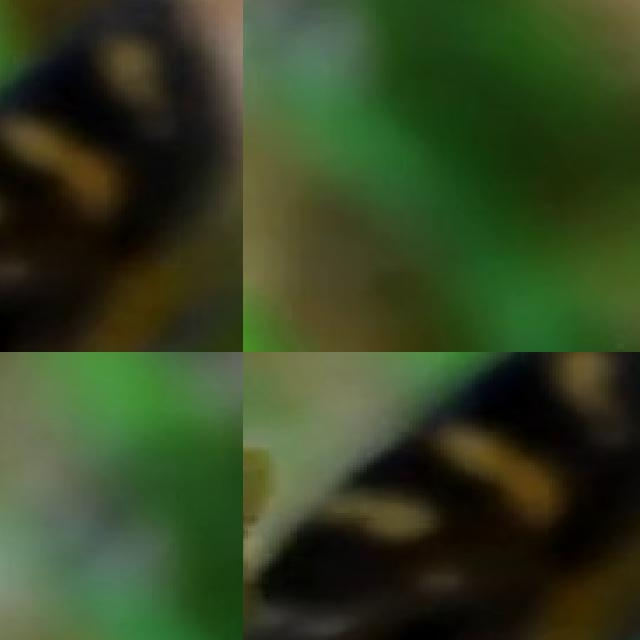fish: (243, 352, 640, 640), (0, 0, 243, 352)
